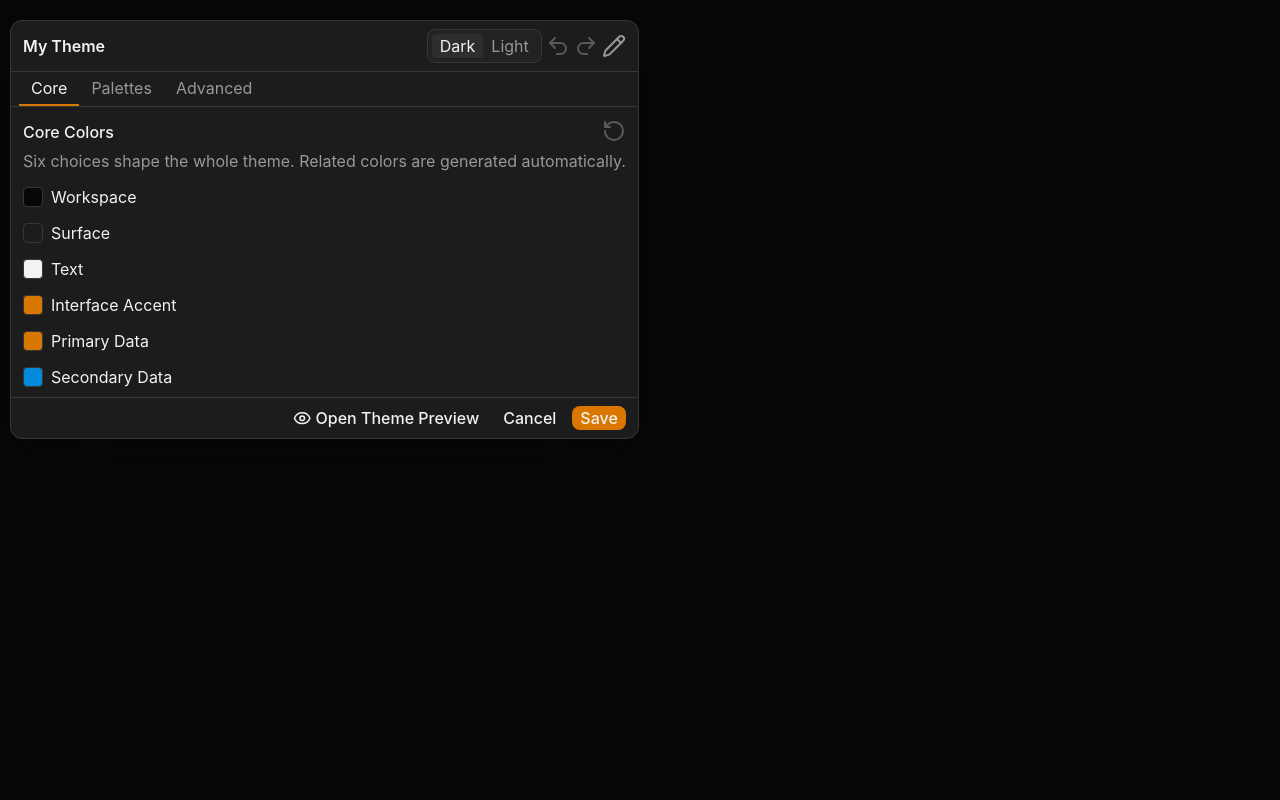
it: ThemeEditor › searches Advanced roles without replacing the saved expansion state
Click the tab "Advanced".
click(214, 89)  # box [164, 72, 264, 106]
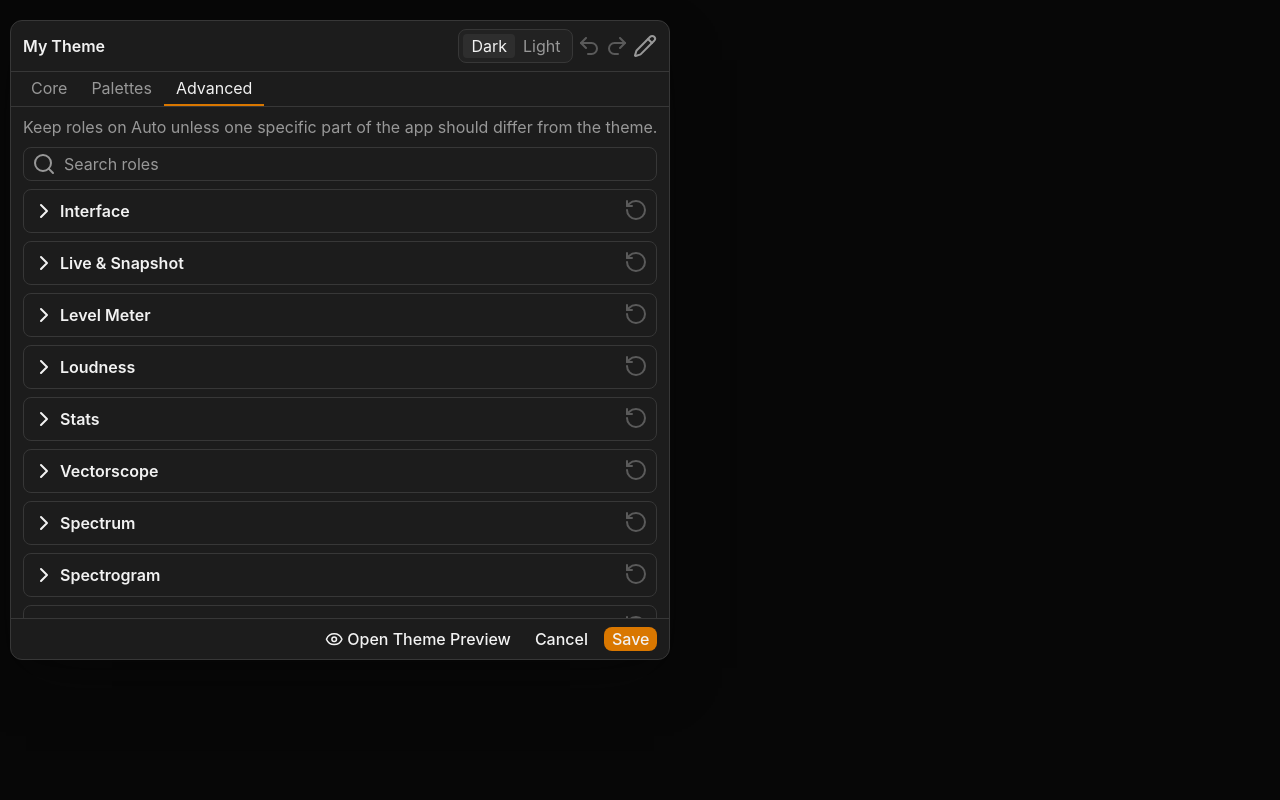
Result: the button "Panel Surface" is gone
Type "Panel Surface" into the search field named "Search Advanced roles".
click(356, 164); type("Panel Surface")  # box [64, 152, 648, 176]
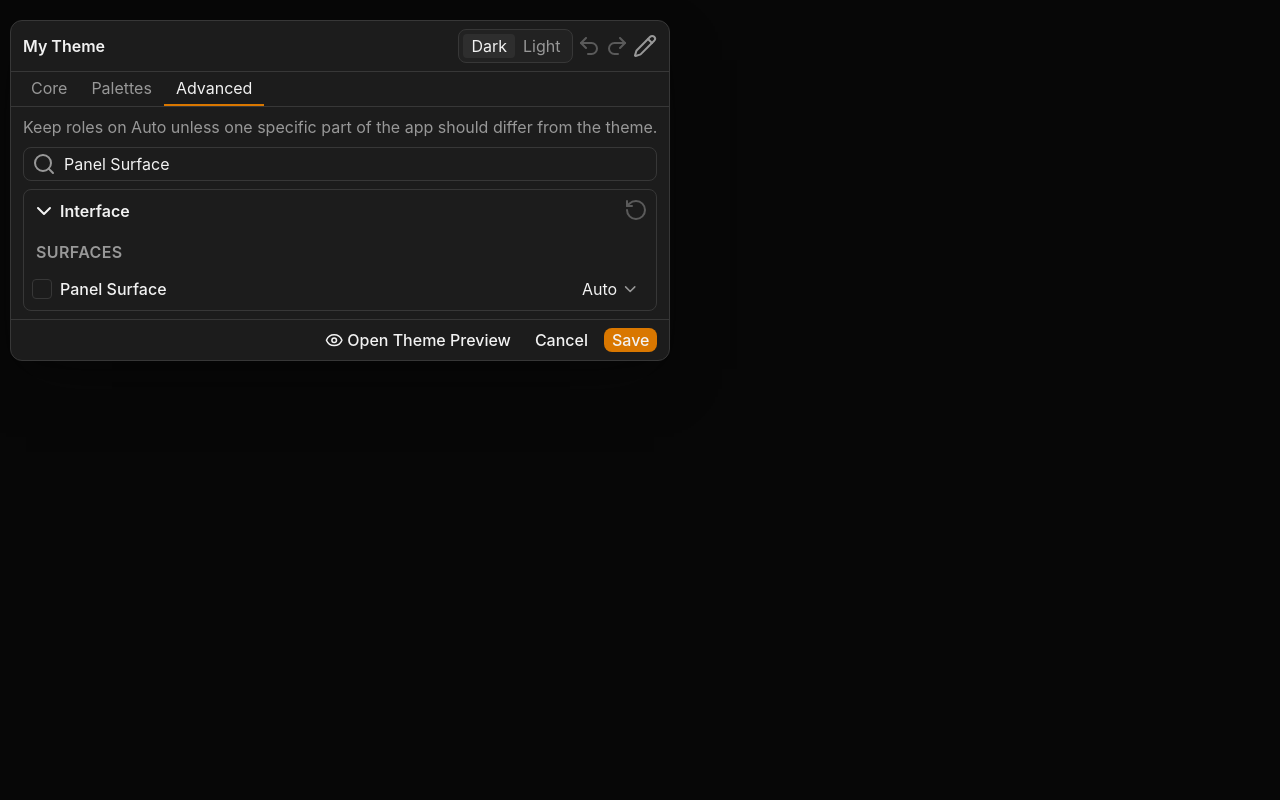
Result: the text "Panel Surface" is shown at [60, 279, 166, 299]
Clear the search field named "Search Advanced roles" at (356, 164), box [64, 152, 648, 176]
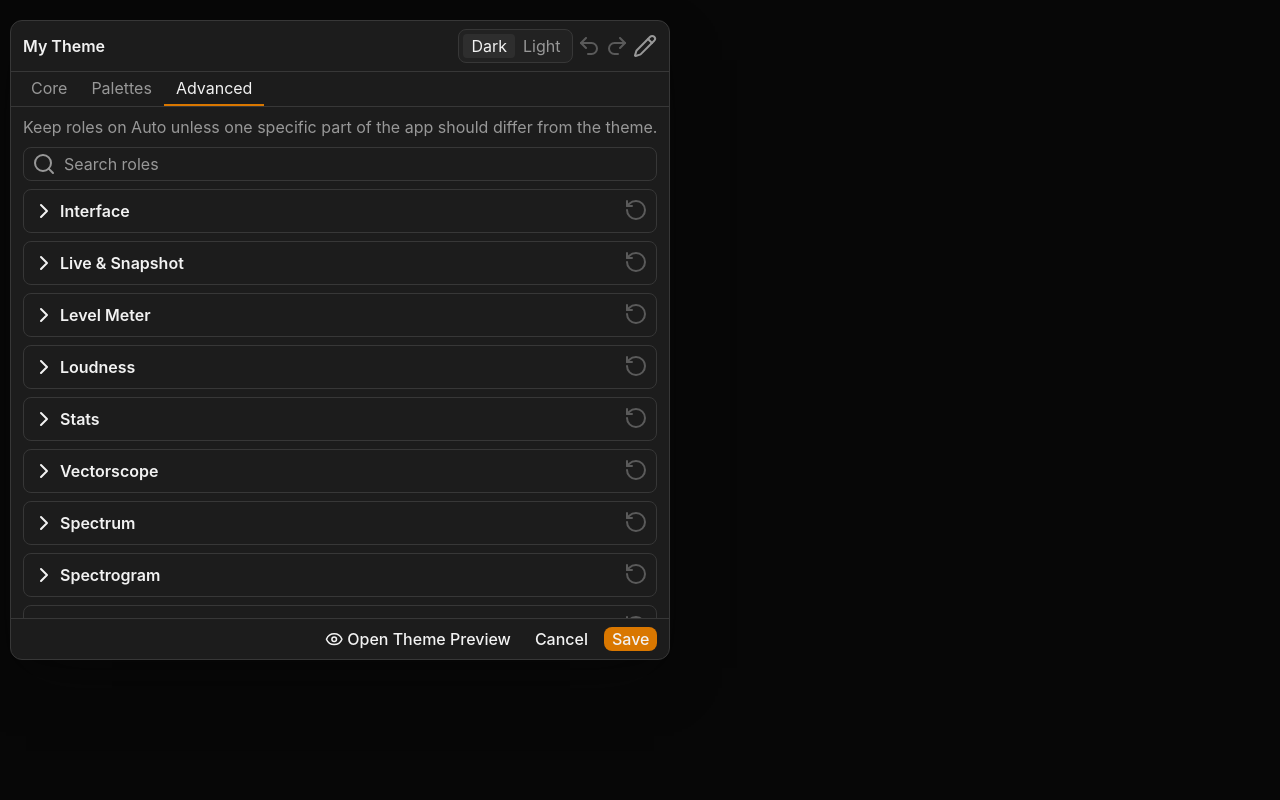
Result: the text "Panel Surface" is gone
